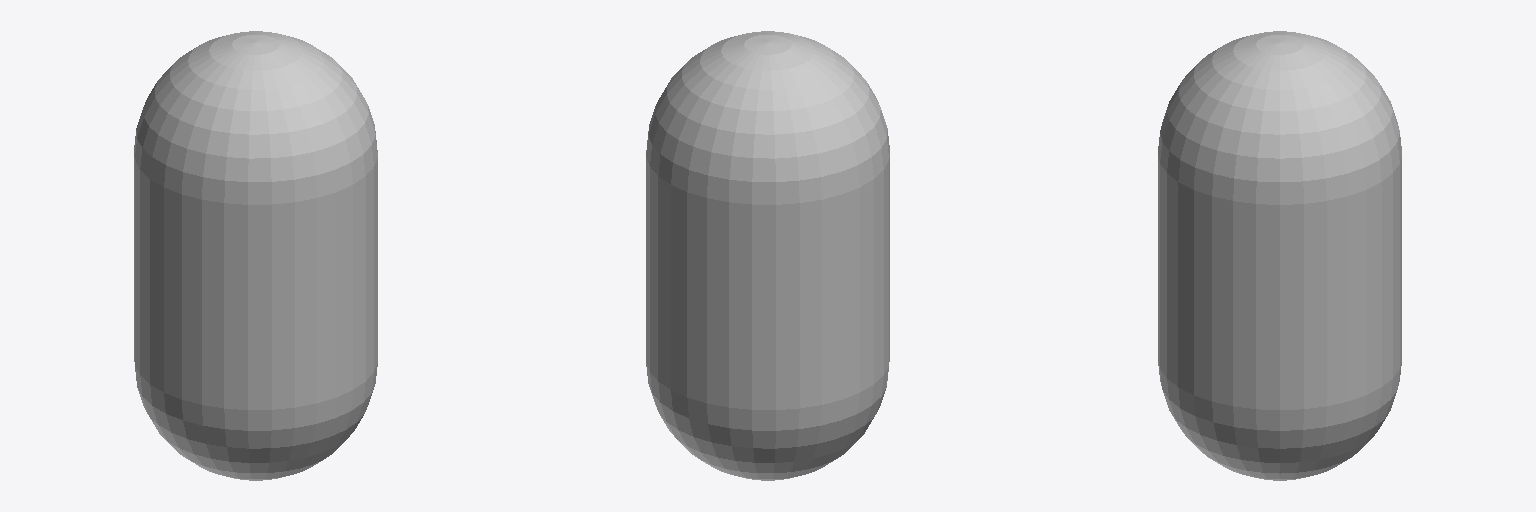
Rendered from CapsuleShape.obj.
The picture shows the model from 3 angles: view 1: azimuth 30°, elevation 25°; view 2: azimuth 150°, elevation 25°; view 3: azimuth 270°, elevation 25°; orthographic projection.
Parts seen in each view (by area): view 1: Sphere.001; view 2: Sphere.001; view 3: Sphere.001.
Part boxes in pixels (left/top/right/bottom): Sphere.001: left=134, top=31, right=377, bottom=480; Sphere.001: left=646, top=31, right=889, bottom=480; Sphere.001: left=1158, top=31, right=1401, bottom=480.
Bounding box in the file's own units: 100 × 193 × 100.